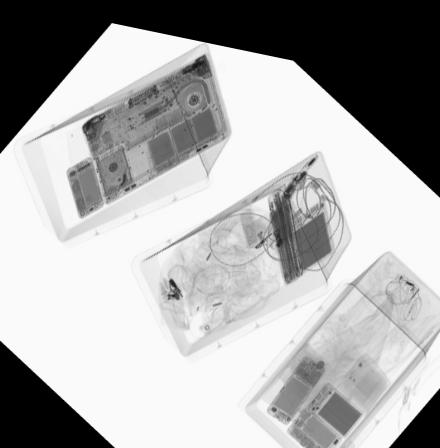Powerbank: (305, 366, 364, 425), (291, 184, 332, 259)
